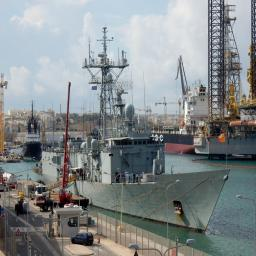Fragata: (37, 17, 232, 240)
